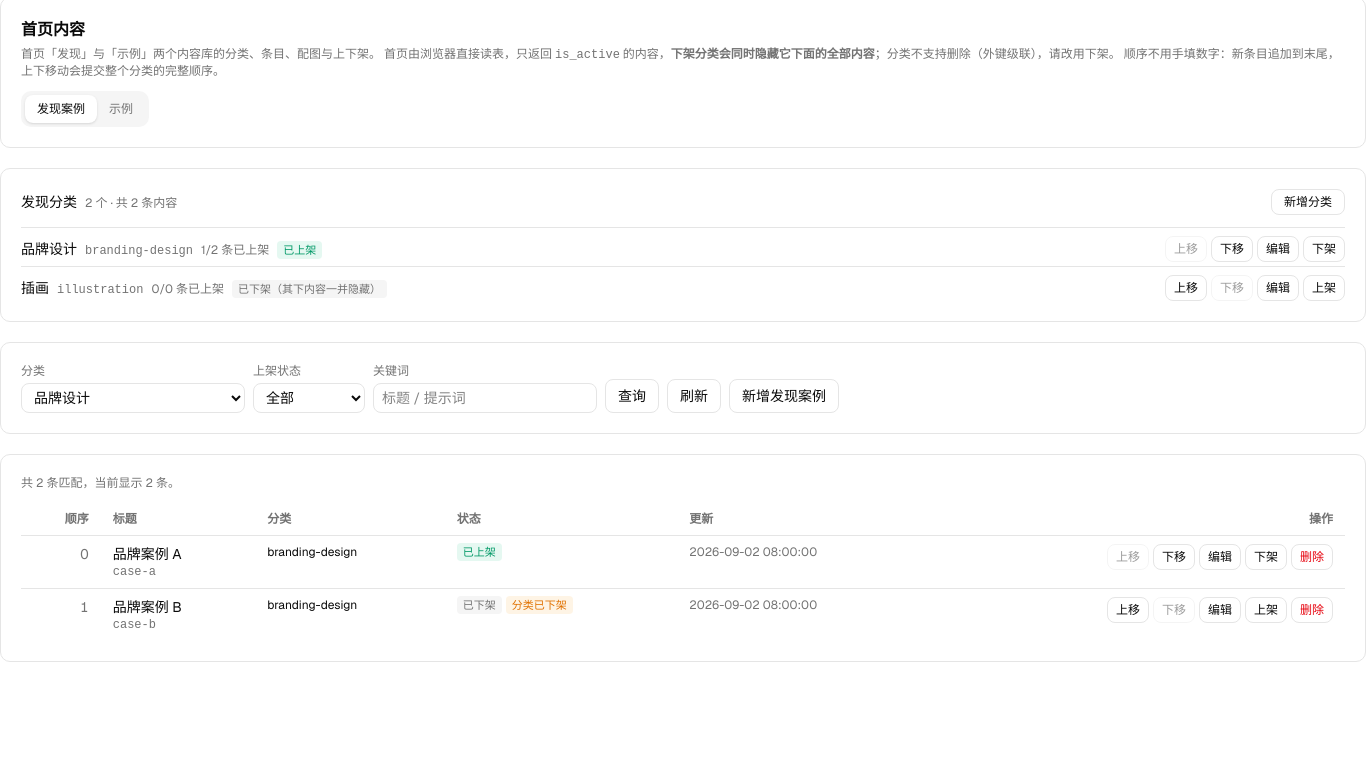
it: admin home content section › unpublishes an entry only after an inline reason and confirmation
This screenshot has width=1366, height=765.
Expected: the table with test id "admin-home-table" is shown, [21,503,1345,641]
Click the button "下架" in the row of "品牌案例 A".
click(1266, 557)  # box [1245,544,1287,570]
(page scrolled)
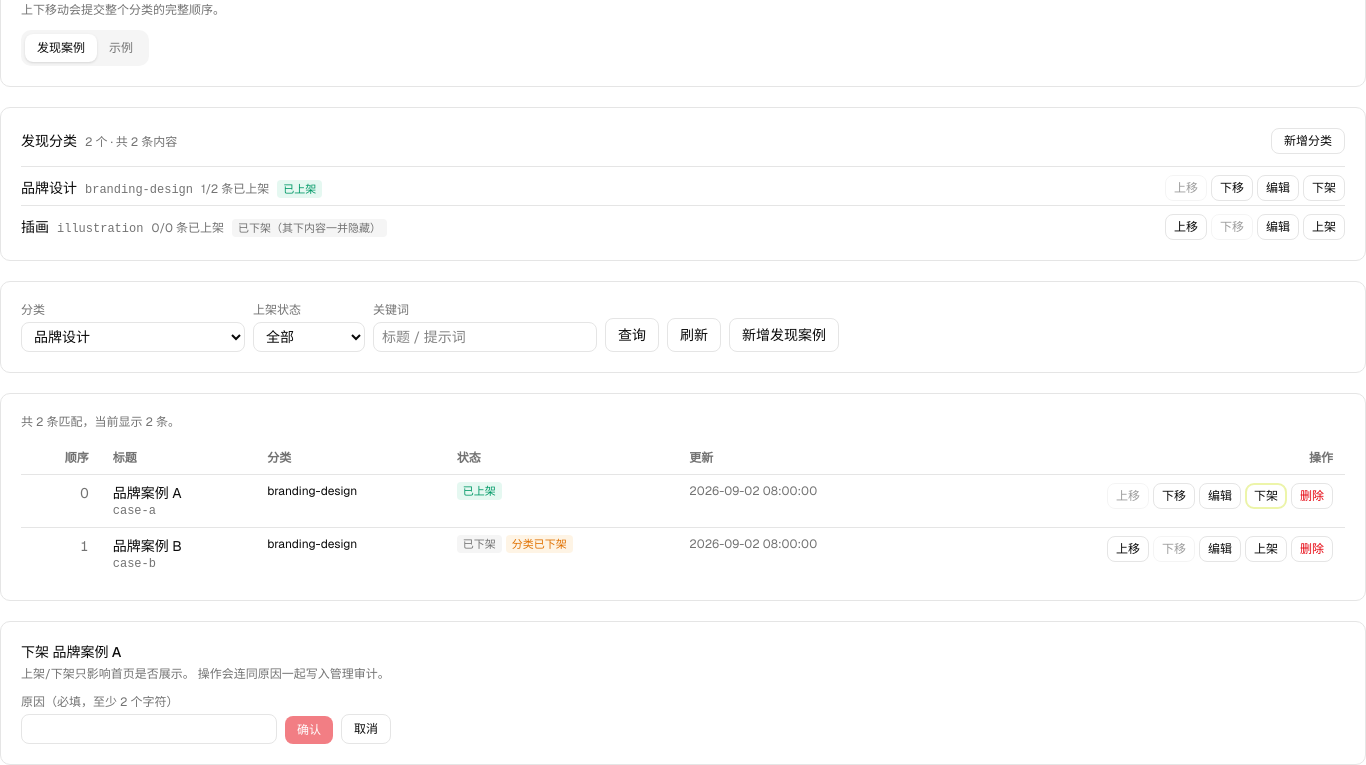
Now the element with test id "admin-home-confirm" shows "下架", box [21,643,49,661]
Now the element with test id "admin-home-confirm" shows "品牌案例 A", box [52,643,122,661]
Now the button "确认" is disabled, box [285,716,333,744]
Type "封面图需要更换" into the field named "操作原因".
click(149, 729); type("封面图需要更换")  # box [21,714,277,744]
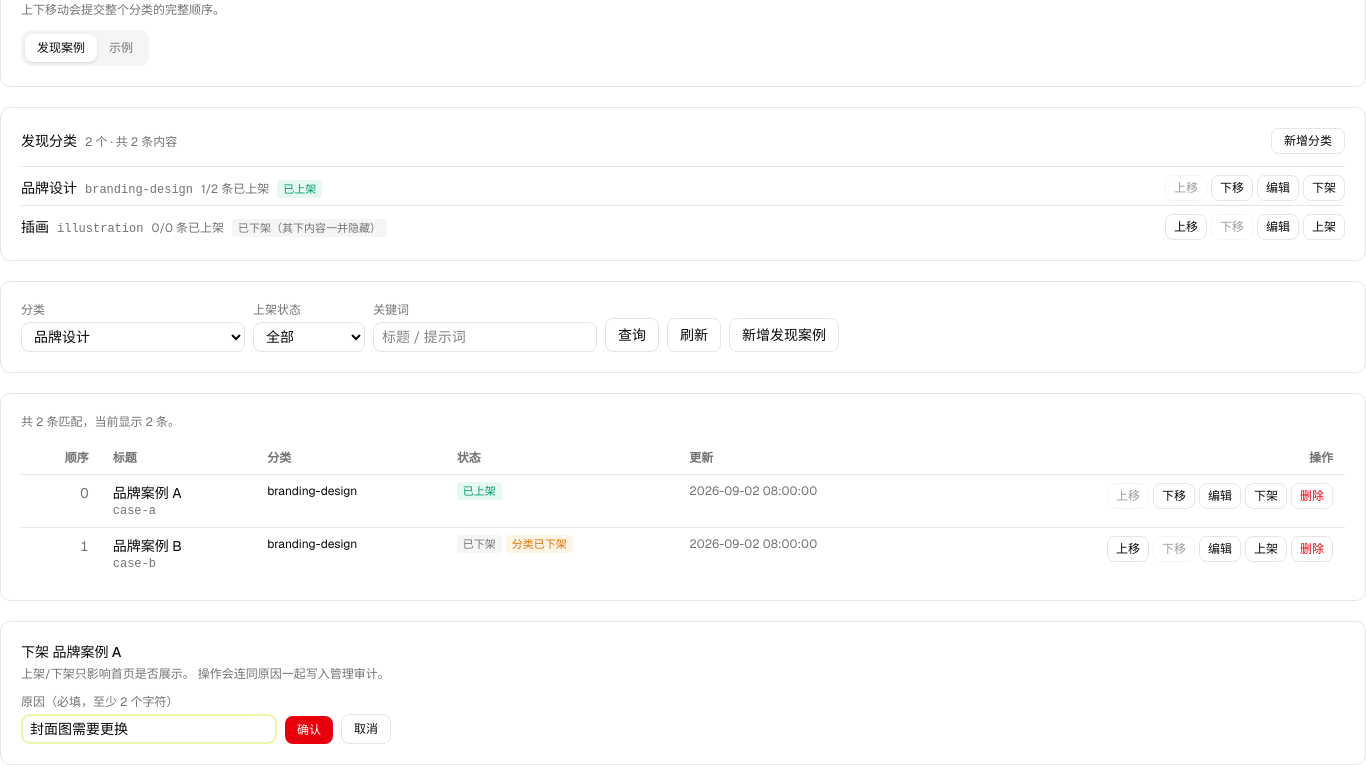
Click the button "确认".
click(309, 730)  # box [285,716,333,744]
(page scrolled)
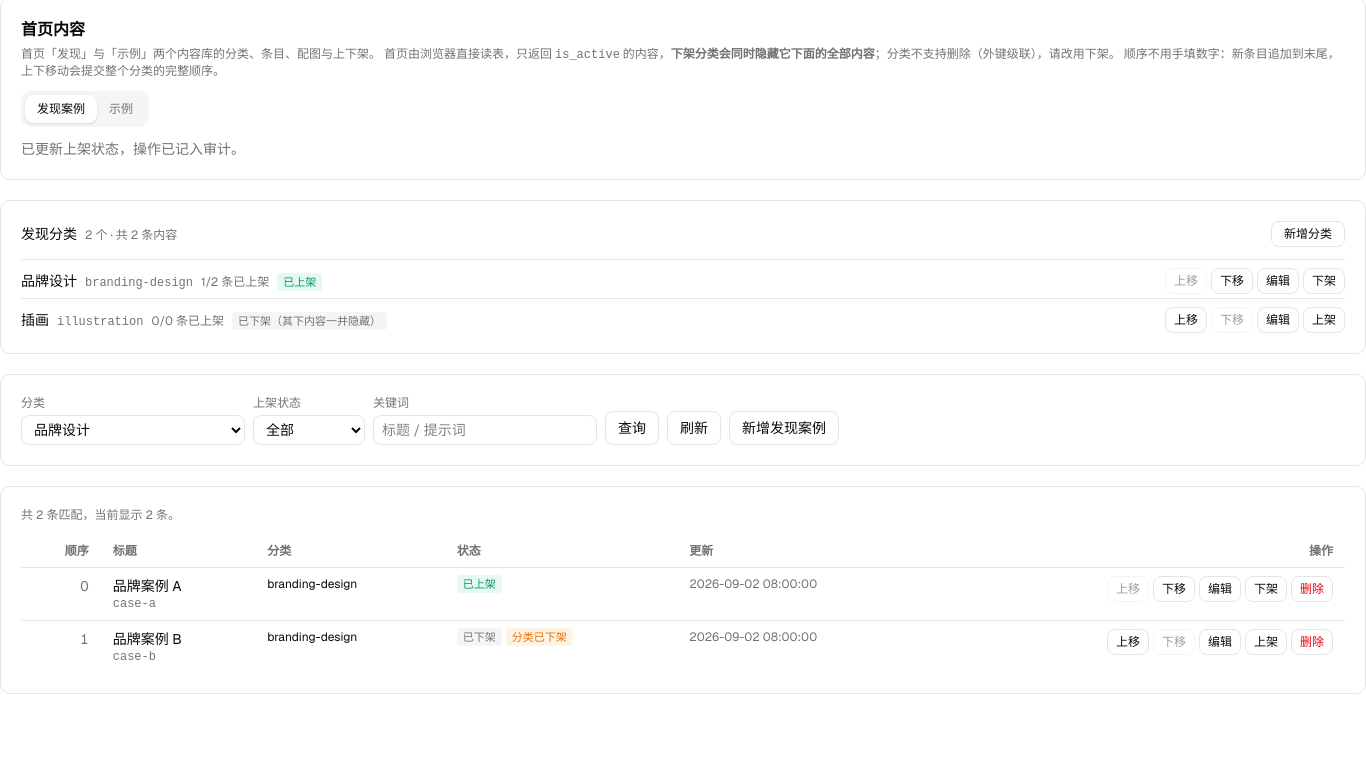
Now the text with test id "admin-home-feedback" shows "已更新上架状态", box [21,140,245,158]
